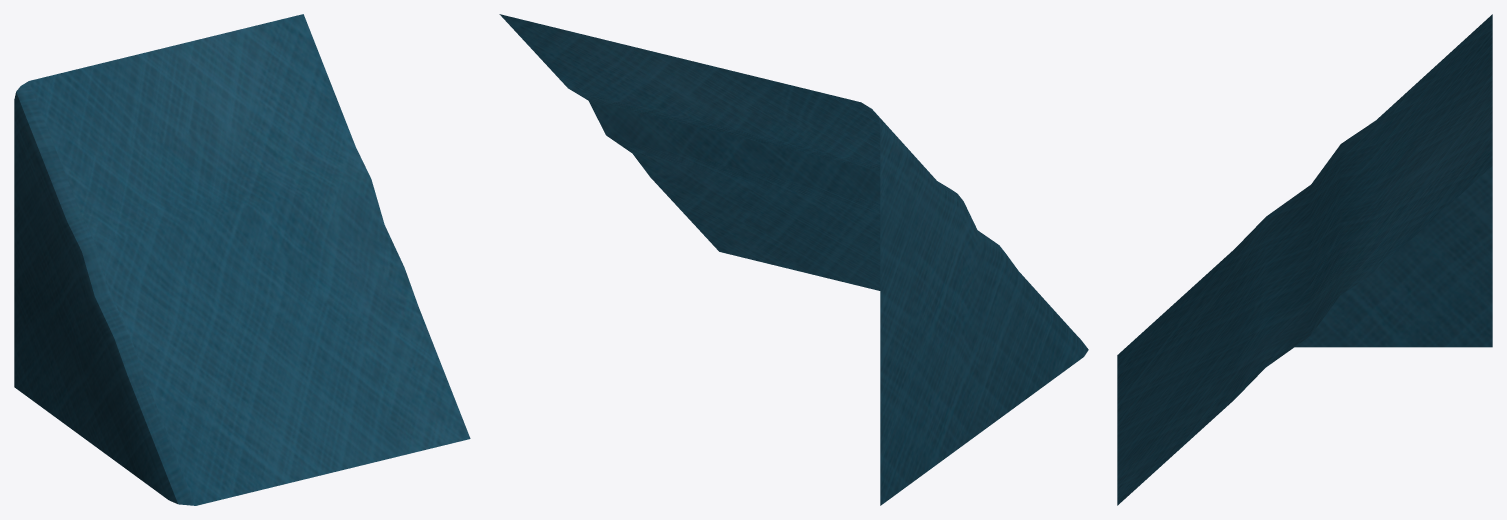
The model's file is tl_slopeR.FBX.
3 views of the same model, side by side, from view 1: azimuth 30°, elevation 25°; view 2: azimuth 150°, elevation 25°; view 3: azimuth 270°, elevation 25° (orthographic). The views are drawn at different scales.
Visible parts, largest first — view 1: tl_slopeR_FINAL; view 2: tl_slopeR_FINAL; view 3: tl_slopeR_FINAL.
Boxes of the visible parts, left/top/right/bottom form: tl_slopeR_FINAL: left=14, top=14, right=470, bottom=505; tl_slopeR_FINAL: left=499, top=14, right=1088, bottom=505; tl_slopeR_FINAL: left=1117, top=14, right=1492, bottom=505.
Size of the model in its own units: 100 by 100 by 100.
